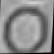no answer: (0, 2, 52, 54)
